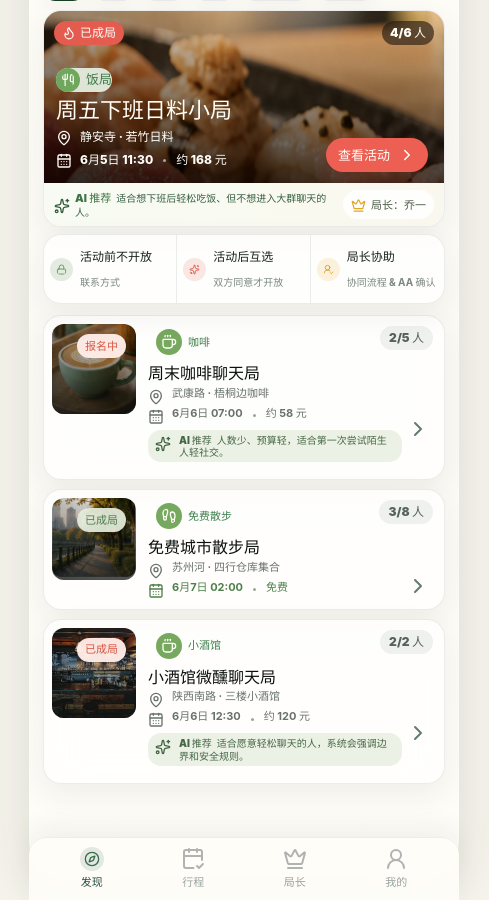
Scenario: App discovery flow › shows a waitlist CTA for a full activity
(page scrolled)
Click the button named "查看 小酒馆微醺聊天局".
click(418, 733)  # box left=404, top=719, right=432, bottom=747
(page scrolled)
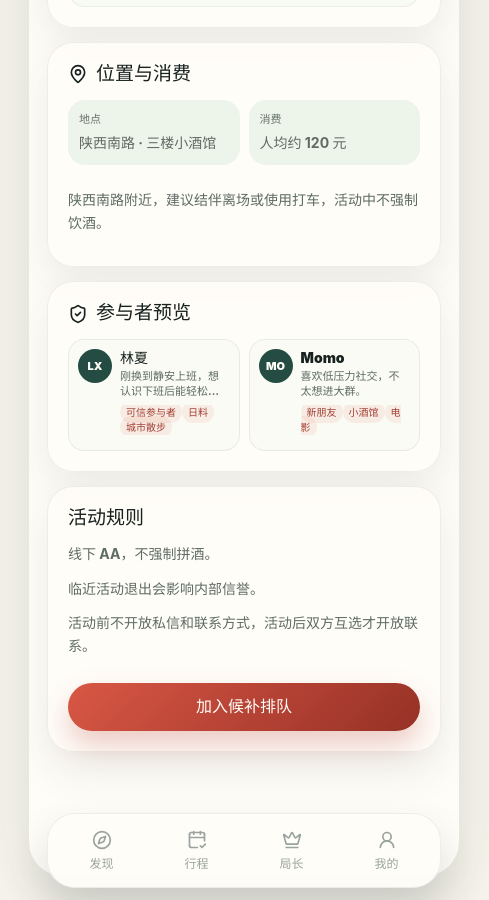
Expected: the button "加入候补排队" is shown
Click the button "加入候补排队".
click(244, 707)  # box left=68, top=683, right=420, bottom=731
(page scrolled)
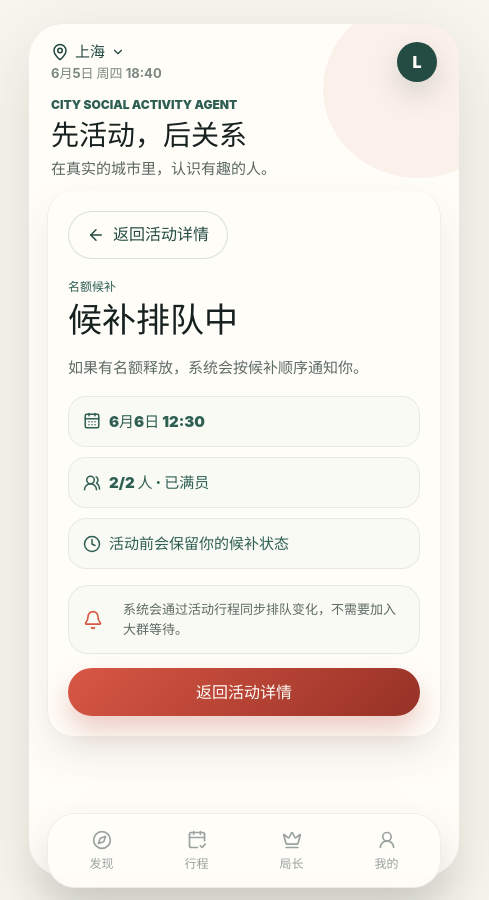
Expected: the heading "候补排队中" is shown, left=68, top=299, right=238, bottom=340
Expected: the text "如果有名额释放，系统会按候补顺序通知你。" is shown, left=68, top=356, right=420, bottom=380
